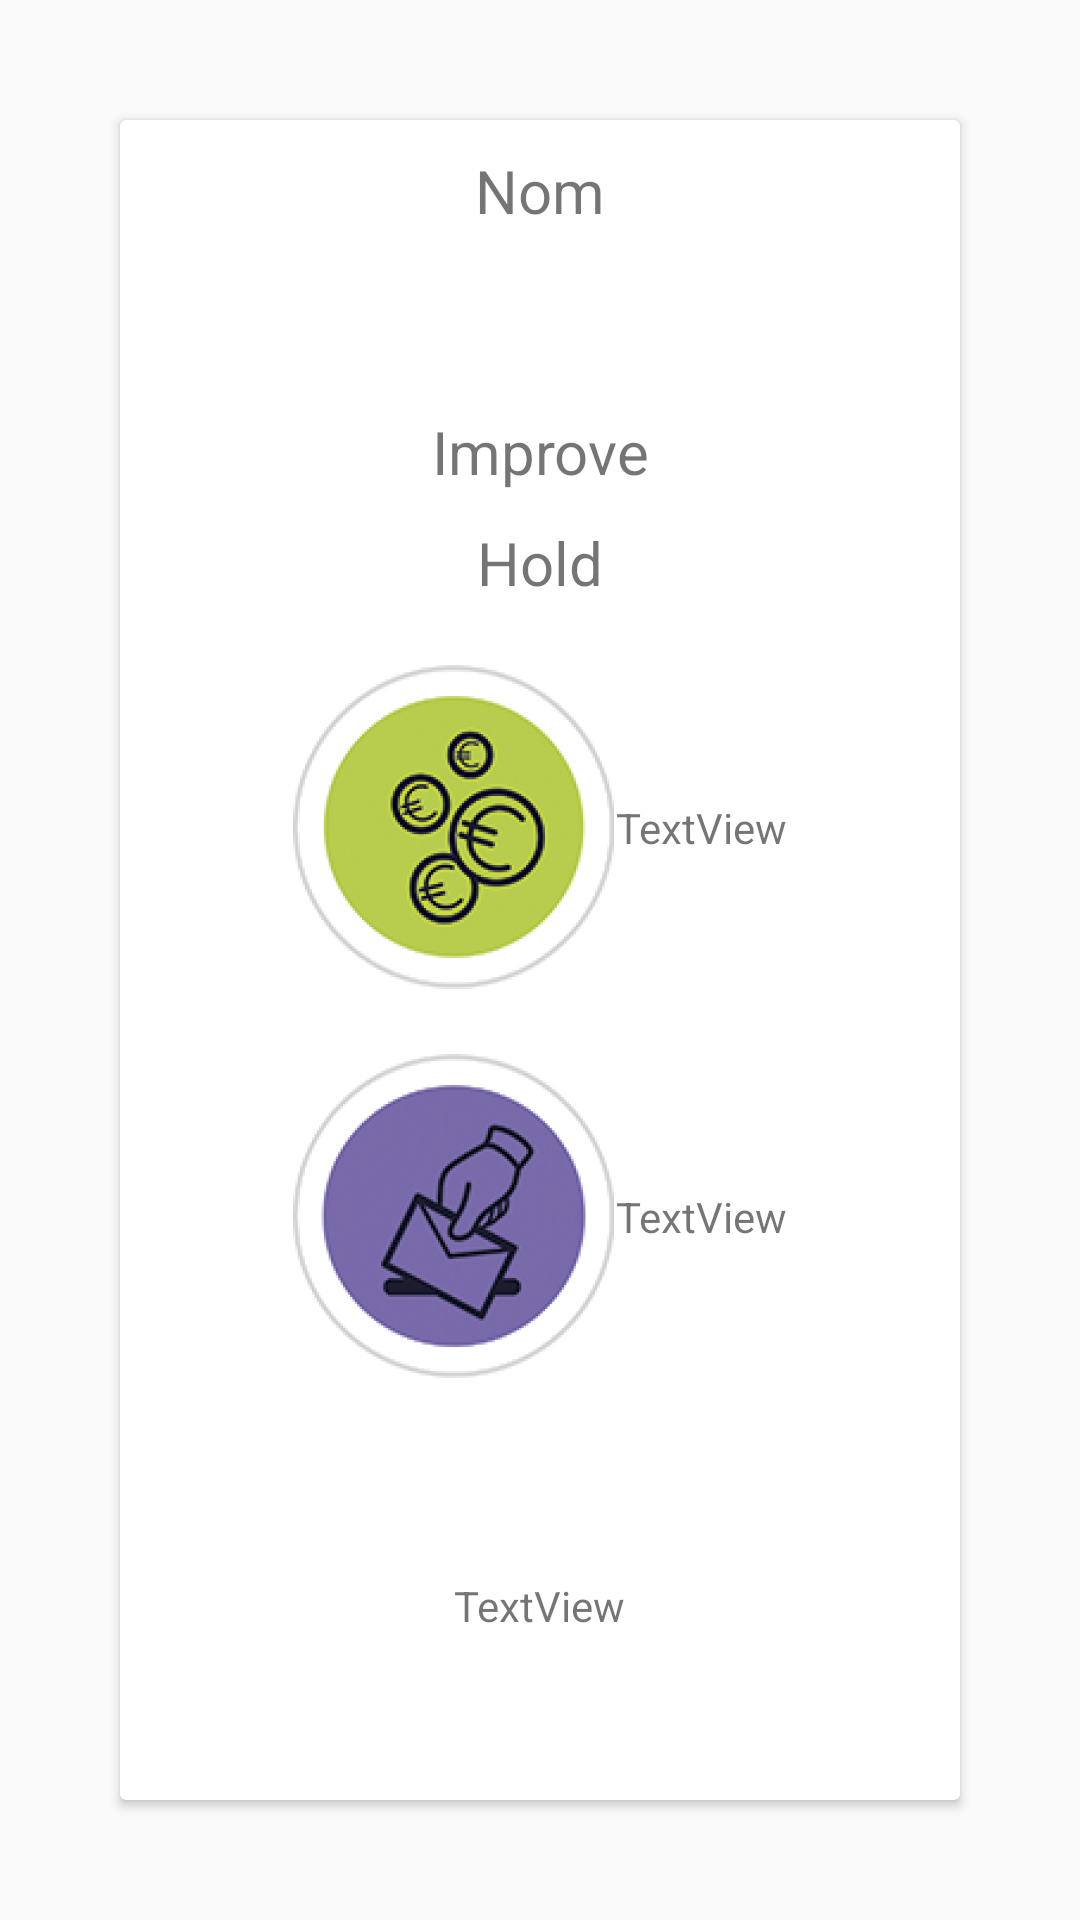

Icon bounding boxes for this 1080px×1920px phone screenshot, format (x1, y1, x2, y2):
ressource eco: (293, 665, 614, 989)
ressource political: (293, 1054, 614, 1378)
